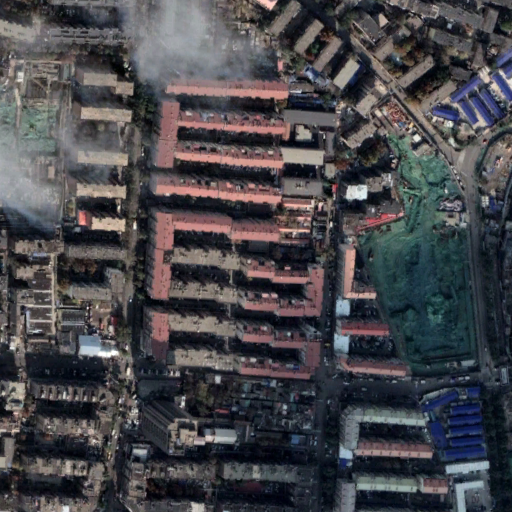cw: (366, 132, 479, 374)
